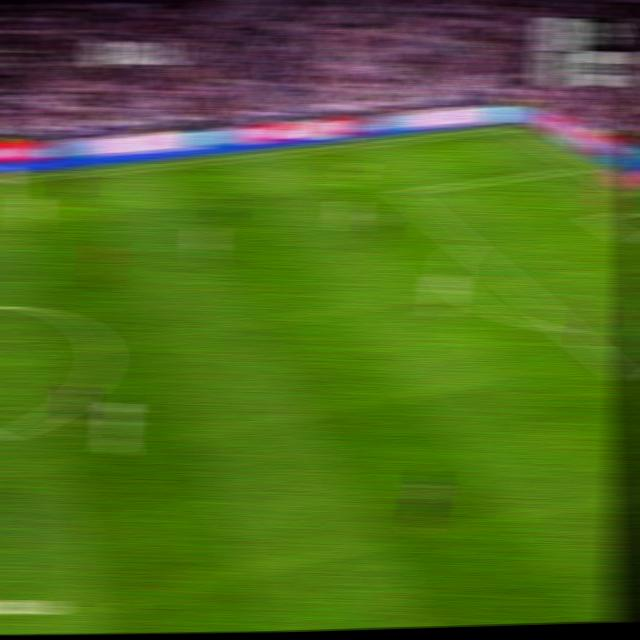bigarea_top_inner: (394, 184, 414, 199)
bigarea_top_outter: (571, 161, 591, 171)
bottom_arc_area_intersection: (555, 320, 576, 336)
corner: (498, 121, 520, 133)
smallarea_top_inner: (585, 212, 605, 224)
top_arc_area_intersection: (455, 235, 478, 253)
